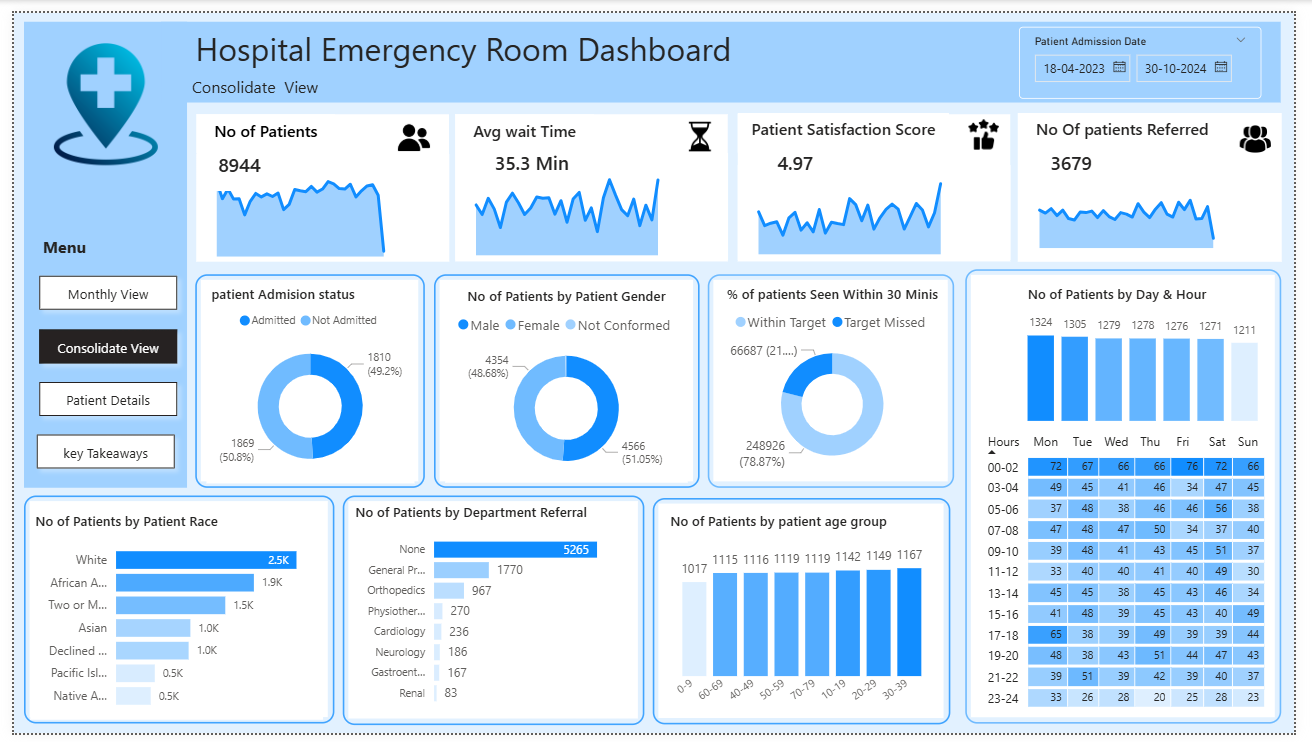

This screenshot's page, from the dashboard's own definition file:
{"tool":"powerbi","page":{"name":"Consolidate View","canvas":[1280,720],"ordinal":1},"visuals":[{"type":"shape","box":[694,261.1,246.7,213.5],"z":0},{"type":"shape","box":[639.1,484.8,297.2,226.5],"z":1000},{"type":"shape","box":[328.9,481.9,301.5,229.4],"z":2000},{"type":"shape","box":[181.8,261.1,229.4,213.5],"z":3000},{"type":"shape","box":[441.2,101.2,272.5,147.5],"z":4000},{"type":"areaChart","fields":{"Category":["Date Table.Date.Variation.Date Hierarchy.Day"],"Y":["Avg(Hospital ER_Data.Patient Waittime)"]},"box":[441.2,140,272.5,107.5],"z":5000},{"type":"shape","box":[182.5,101.2,252.5,147.5],"z":6000},{"type":"shape","box":[10.1,8.7,163,466],"z":7000},{"type":"shape","box":[147.2,8.7,1119.6,80.8],"z":8000},{"type":"textbox","box":[172.4,8.6,553.9,69.7],"z":9000},{"type":"textbox","box":[172.4,57.5,137,31.8],"z":10000},{"type":"image","box":[26,30.3,131.3,122.6],"z":11000},{"type":"areaChart","fields":{"Y":["Hospital ER_Data.No of Patients"],"Category":["Date Table.Date.Variation.Date Hierarchy.Day"]},"box":[182.5,141.2,252.5,107.5],"z":12000},{"type":"card","fields":{"Values":["Hospital ER_Data.No of Patients"]},"box":[192,129.6,66,47.7],"z":13000},{"type":"textbox","box":[182.5,101.2,138.8,38.8],"z":14000},{"type":"slicer","fields":{"Values":["Hospital ER_Data.Patient Admission Date"]},"box":[1005.2,13.5,242.1,72.1],"z":15000},{"type":"shape","box":[1003.9,100.3,264.1,149.2],"z":16000},{"type":"shape","box":[723.8,101.2,272.5,147.5],"z":17000},{"type":"image","box":[378.8,106.2,42.5,35],"z":18000},{"type":"textbox","box":[441.2,101.2,138.8,38.8],"z":19000},{"type":"textbox","box":[723.9,100.3,211.6,39.1],"z":20000},{"type":"textbox","box":[1005.2,100.3,206.7,39.1],"z":21000},{"type":"card","fields":{"Values":["Hospital ER_Data.Avg wait time"]},"box":[458.8,129.8,118.3,43.3],"z":22000},{"type":"areaChart","fields":{"Category":["Date Table.Date.Variation.Date Hierarchy.Day"],"Y":["Avg(Hospital ER_Data.Patient Satisfaction Score)"]},"box":[723.9,152.9,272.7,94.2],"z":23000},{"type":"card","fields":{"Values":["Hospital ER_Data.avg Patient satisfaction score"]},"box":[734.4,129.8,95.2,43.3],"z":24000},{"type":"areaChart","fields":{"Category":["Date Table.Date.Variation.Date Hierarchy.Day"],"Y":["Hospital ER_Data.No OF Patients are refered"]},"box":[1005.2,146.7,261.7,94.2],"z":25000},{"type":"card","fields":{"Values":["Hospital ER_Data.No OF Patients are refered"]},"box":[1018.6,129.6,77,42.8],"z":26000},{"type":"image","box":[667.7,108.8,36.7,29.3],"z":27000},{"type":"image","box":[1222,109.6,37.5,31.7],"z":28000},{"type":"image","box":[951.4,106.4,36.7,30.6],"z":29000},{"type":"shape","box":[10.1,481.9,310.2,228],"z":30000},{"type":"columnChart","fields":{"Y":["Hospital ER_Data.No of Patients"],"Category":["Hospital ER_Data.patient age group"]},"box":[650.7,499.2,274.1,200.5],"z":31000},{"type":"shape","box":[419.8,261.1,265.5,213.5],"z":32000},{"type":"clusteredBarChart","fields":{"Category":["Hospital ER_Data.Department Referral"],"Y":["Hospital ER_Data.No of Patients"]},"box":[336.2,490.5,284.2,212.1],"z":33000},{"type":"clusteredBarChart","fields":{"Category":["Hospital ER_Data.Patient Race"],"Y":["Hospital ER_Data.No of Patients"]},"box":[15.9,499.2,292.9,207.8],"z":34000},{"type":"donutChart","title":"% of patients Seen Within 30 Minis","fields":{"Category":["Hospital ER_Data.wait time status"],"Y":["Sum(Hospital ER_Data.Patient Waittime)"]},"box":[704.1,271.2,229.4,193.3],"z":35000},{"type":"donutChart","fields":{"Y":["Hospital ER_Data.No of Patients"],"Category":["Hospital ER_Data.Patient Gender"]},"box":[431.4,274.1,242.4,196.2],"z":36000},{"type":"donutChart","title":" patient Admision status","fields":{"Category":["Hospital ER_Data.patient Admision status"],"Y":["Hospital ER_Data.No OF Patients are refered"]},"box":[191.9,271.2,207.8,199.1],"z":37000},{"type":"shape","box":[950.8,256.8,316,454.5],"z":38000},{"type":"pivotTable","title":"% of patients Seen Within 30 Minis","fields":{"Rows":["Hospital ER_Data.wait time interval"],"Columns":["Date Table.Day Name"],"Values":["Hospital ER_Data.No OF Patients are refered"]},"box":[963.8,414.1,295.8,285.7],"z":39000},{"type":"clusteredColumnChart","title":"No of Patients by Day & Hour","fields":{"Y":["Hospital ER_Data.No of Patients"],"Category":["Date Table.Day Name"]},"box":[1008.5,271.2,240.9,142.8],"z":40000},{"type":"pageNavigator","box":[15.9,254.3,156.5,52.6],"z":41000},{"type":"pageNavigator","box":[15.9,306.9,156.5,52.6],"z":42000},{"type":"pageNavigator","box":[15.9,359.5,156.5,52.6],"z":43000},{"type":"pageNavigator","box":[13.5,412.1,156.5,52.6],"z":44000},{"type":"textbox","box":[23.2,217.7,68.5,39.1],"z":45000}]}

Visuals, with their boxes in screenshot pixels (x1, y1, x2, y2), scaled from the page's 1280x720 canvas onto the 1312x742 screenshot:
shape: x1=711 y1=269 x2=964 y2=489
shape: x1=655 y1=500 x2=960 y2=733
shape: x1=337 y1=497 x2=646 y2=733
shape: x1=186 y1=269 x2=421 y2=489
shape: x1=452 y1=104 x2=732 y2=256
areaChart - Date Table.Date.Variation.Date Hierarchy.Day x Avg(Hospital ER_Data.Patient Waittime): x1=452 y1=144 x2=732 y2=255
shape: x1=187 y1=104 x2=446 y2=256
shape: x1=10 y1=9 x2=177 y2=489
shape: x1=151 y1=9 x2=1298 y2=92
textbox: x1=177 y1=9 x2=744 y2=81
textbox: x1=177 y1=59 x2=317 y2=92
image: x1=27 y1=31 x2=161 y2=158
areaChart - Hospital ER_Data.No of Patients x Date Table.Date.Variation.Date Hierarchy.Day: x1=187 y1=146 x2=446 y2=256
card - Hospital ER_Data.No of Patients: x1=197 y1=134 x2=264 y2=183
textbox: x1=187 y1=104 x2=329 y2=144
slicer - Hospital ER_Data.Patient Admission Date: x1=1030 y1=14 x2=1278 y2=88
shape: x1=1029 y1=103 x2=1300 y2=257
shape: x1=742 y1=104 x2=1021 y2=256
image: x1=388 y1=109 x2=432 y2=146
textbox: x1=452 y1=104 x2=594 y2=144
textbox: x1=742 y1=103 x2=959 y2=144
textbox: x1=1030 y1=103 x2=1242 y2=144
card - Hospital ER_Data.Avg wait time: x1=470 y1=134 x2=592 y2=178
areaChart - Date Table.Date.Variation.Date Hierarchy.Day x Avg(Hospital ER_Data.Patient Satisfaction Score): x1=742 y1=158 x2=1022 y2=255
card - Hospital ER_Data.avg Patient satisfaction score: x1=753 y1=134 x2=850 y2=178
areaChart - Date Table.Date.Variation.Date Hierarchy.Day x Hospital ER_Data.No OF Patients are refered: x1=1030 y1=151 x2=1299 y2=248
card - Hospital ER_Data.No OF Patients are refered: x1=1044 y1=134 x2=1123 y2=178
image: x1=684 y1=112 x2=722 y2=142
image: x1=1253 y1=113 x2=1291 y2=146
image: x1=975 y1=110 x2=1013 y2=141
shape: x1=10 y1=497 x2=328 y2=732
columnChart - Hospital ER_Data.No of Patients x Hospital ER_Data.patient age group: x1=667 y1=514 x2=948 y2=721
shape: x1=430 y1=269 x2=702 y2=489
clusteredBarChart - Hospital ER_Data.Department Referral x Hospital ER_Data.No of Patients: x1=345 y1=505 x2=636 y2=724
clusteredBarChart - Hospital ER_Data.Patient Race x Hospital ER_Data.No of Patients: x1=16 y1=514 x2=317 y2=729
"% of patients Seen Within 30 Minis" donutChart: x1=722 y1=279 x2=957 y2=479
donutChart - Hospital ER_Data.No of Patients x Hospital ER_Data.Patient Gender: x1=442 y1=282 x2=691 y2=485
" patient Admision status" donutChart: x1=197 y1=279 x2=410 y2=485
shape: x1=975 y1=265 x2=1298 y2=733
"% of patients Seen Within 30 Minis" pivotTable: x1=988 y1=427 x2=1291 y2=721
"No of Patients by Day & Hour" clusteredColumnChart: x1=1034 y1=279 x2=1281 y2=427
pageNavigator: x1=16 y1=262 x2=177 y2=316
pageNavigator: x1=16 y1=316 x2=177 y2=370
pageNavigator: x1=16 y1=370 x2=177 y2=425
pageNavigator: x1=14 y1=425 x2=174 y2=479
textbox: x1=24 y1=224 x2=94 y2=265
